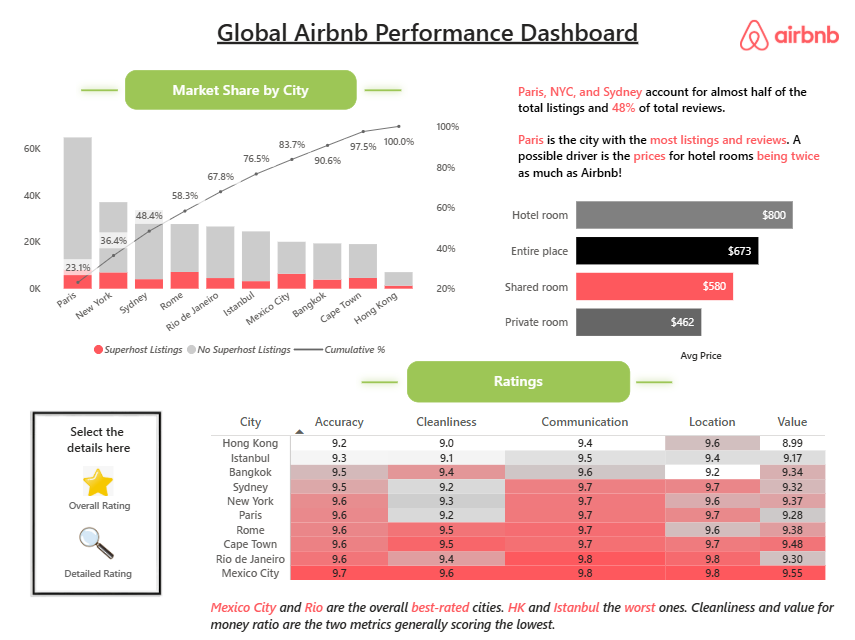

Layout of this report page (visuals, bound fields, positions):
{"tool":"powerbi","page":{"name":"Ratings","canvas":[960,720],"ordinal":1},"visuals":[{"type":"textbox","box":[182,14,596,64],"z":0},{"type":"image","box":[95.7,519.6,34.3,34.3],"z":0,"group":"g1"},{"type":"image","box":[90,585.7,44.3,42.9],"z":0,"group":"g2"},{"type":"image","box":[826,18,110,46],"z":1000},{"type":"textbox","box":[64.3,552.5,100,25.7],"z":1000,"group":"g1"},{"type":"textbox","box":[62.9,628.6,100,25.7],"z":1000,"group":"g2"},{"type":"textbox","box":[144.1,79.3,257.5,43.7],"z":2000},{"type":"lineStackedColumnComboChart","fields":{"Category":["Listings.city"],"Y":["Listings.Superhost Listings","Listings.No Superhost Listings"],"Y2":["Listings.Cumulative %"]},"box":[25,126.7,495,281.7],"z":3000},{"type":"barChart","fields":{"Category":["Listings.room_type"],"Y":["Listings.Avg Price"]},"box":[558.3,196.7,368.3,211.7],"z":4000},{"type":"textbox","box":[575,88.3,351.7,123.3],"z":5000},{"type":"textbox","box":[456,404,248,46],"z":6000},{"type":"image","box":[37.1,444.3,148.6,234.3],"z":7000},{"type":"textbox","box":[64.3,467.1,94.3,50],"z":8000},{"type":"pivotTable","fields":{"Rows":["Listings.city"],"Values":["Listings.Accuracy","Listings.Cleanliness","Listings.Communication","Listings.Location","Listings.Value"]},"box":[232.9,455.7,694.3,234.3],"z":9000},{"type":"group","id":"g1","title":"Group 1","box":[64.3,519.6,100,58.6],"z":11000},{"type":"group","id":"g2","title":"Group 2","box":[62.9,585.7,100,68.6],"z":12000},{"type":"textbox","box":[233.3,661.7,726.7,56.7],"z":13000},{"type":"shape","box":[398,400,56,54],"z":14000},{"type":"shape","box":[704,400,56,54],"z":15000},{"type":"shape","box":[87.4,74.5,56.7,55.1],"z":16000},{"type":"shape","box":[401.6,74.5,56.7,55.1],"z":17000}]}

Visuals, with their boxes in screenshot pixels (x1, y1, x2, y2), scaled from the page's 960x720 canvas onto the 855x640 screenshot:
textbox: 162 12 693 69
image: 85 462 116 492
image: 80 521 120 559
image: 736 16 834 57
textbox: 57 491 146 514
textbox: 56 559 145 582
textbox: 128 70 358 109
lineStackedColumnComboChart - Listings.city x Listings.Superhost Listings: 22 113 463 363
barChart - Listings.room_type x Listings.Avg Price: 497 175 825 363
textbox: 512 78 825 188
textbox: 406 359 627 400
image: 33 395 165 603
textbox: 57 415 141 460
pivotTable - Listings.city x Listings.Accuracy: 207 405 826 613
"Group 1" group: 57 462 146 514
"Group 2" group: 56 521 145 582
textbox: 208 588 854 639
shape: 354 356 404 404
shape: 627 356 677 404
shape: 78 66 128 115
shape: 358 66 408 115
